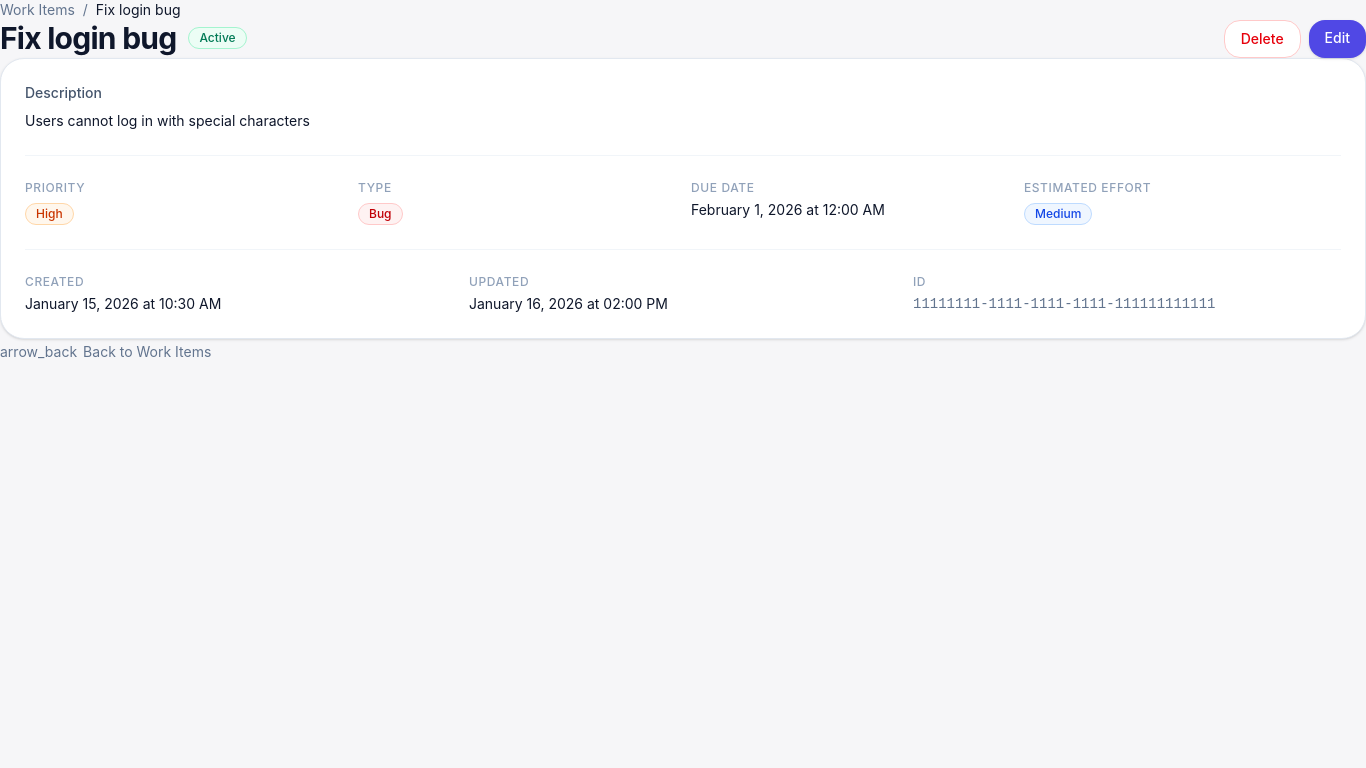
Scenario: WorkItemDetail › closes delete dialog when cancel button is clicked
# Open the delete dialog
Click the button "Delete".
click(1262, 39)  # box [1224,20,1301,58]
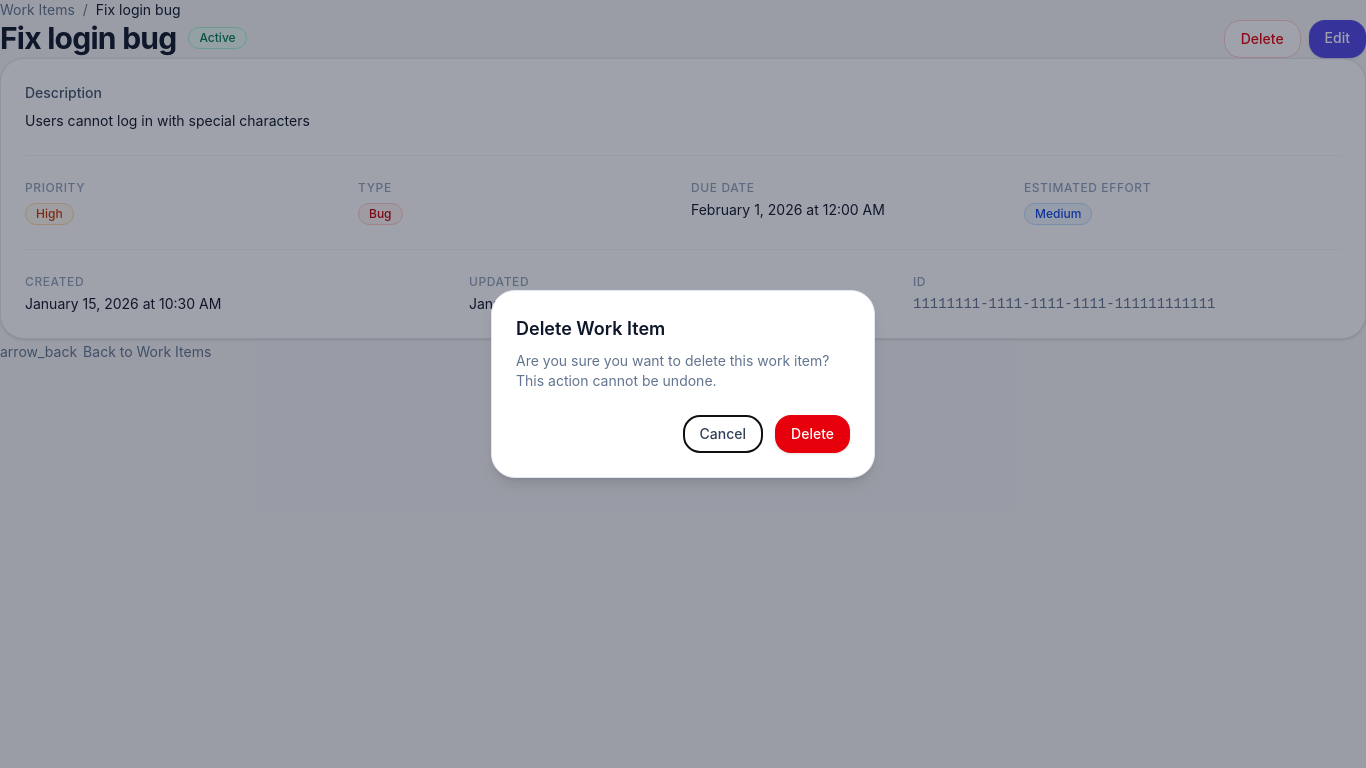
Expected: the heading "Delete Work Item" is shown, [516,318,665,339]
# Click cancel
Click the button "Cancel".
click(723, 434)  # box [683,415,763,453]
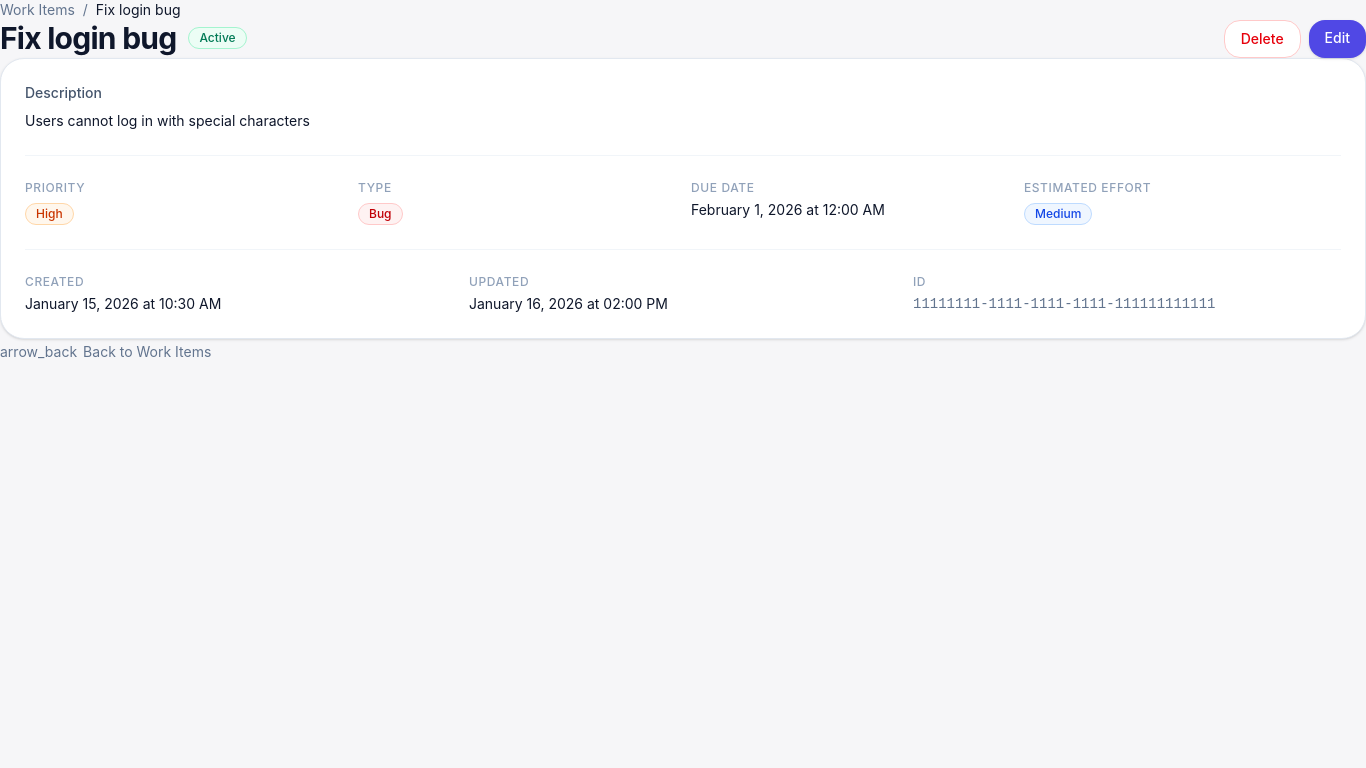
Expected: the heading "Delete Work Item" is gone
